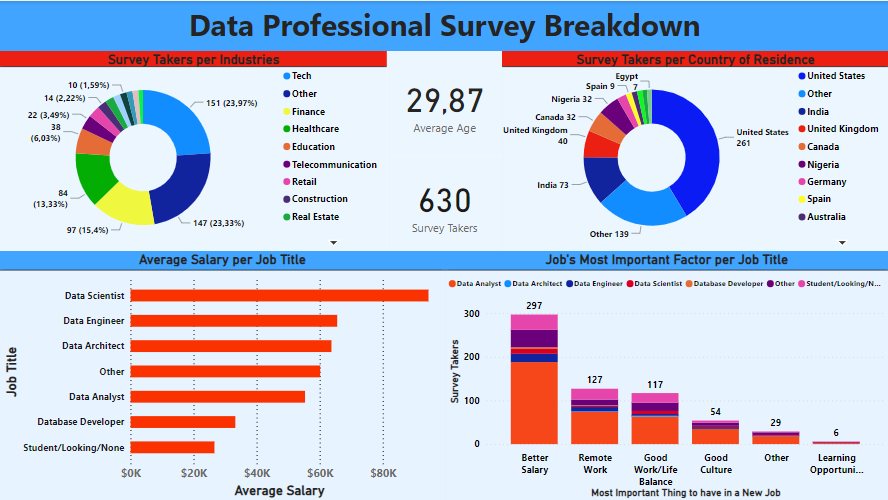

Layout of this report page (visuals, bound fields, positions):
{"tool":"powerbi","page":{"name":"Pagina 1","canvas":[1280,720],"ordinal":0},"visuals":[{"type":"textbox","box":[0,0,1280.2,72],"z":0},{"type":"card","fields":{"Values":["CountNonNull(Data Professional Survey.Unique ID)"]},"box":[557.3,223.2,165.6,136.8],"z":1000},{"type":"card","fields":{"Values":["Avg(Data Professional Survey.Q10 - Current Age)"]},"box":[557.3,72,165.6,151.2],"z":2000},{"type":"clusteredBarChart","fields":{"Category":["Data Professional Survey.Q1 - Which Title Best Fits your Current Role?.1"],"Y":["Avg(Data Professional Survey.Average Salary)"]},"box":[0,360,640.8,360],"z":3000},{"type":"columnChart","title":"Job''s Most Important Factor per Job Title","fields":{"Y":["CountNonNull(Data Professional Survey.Unique ID)"],"Series":["Data Professional Survey.Q1 - Which Title Best Fits your Current Role?.1"],"Category":["Data Professional Survey.Q8 - If you were to look for a new job today, what would be the most important t"]},"box":[640.8,360,639.4,360],"z":4000},{"type":"donutChart","title":"Survey Takers per Country of Residence","fields":{"Category":["Data Professional Survey.Q11 - Which Country do you live in?.1"],"Y":["CountNonNull(Data Professional Survey.Unique ID)"]},"box":[722.9,72,557.3,288],"z":5000},{"type":"donutChart","title":"Survey Takers per Industries","fields":{"Y":["CountNonNull(Data Professional Survey.Unique ID)"],"Category":["Data Professional Survey.Q4 - What Industry do you work in?.1"]},"box":[0,72,557.3,288],"z":6000}]}

Visuals, with their boxes in screenshot pixels (x1, y1, x2, y2), scaled from the page's 1280x720 canvas onto the 888x500 screenshot:
textbox: l=0, t=0, r=887, b=50
card - CountNonNull(Data Professional Survey.Unique ID): l=387, t=155, r=502, b=250
card - Avg(Data Professional Survey.Q10 - Current Age): l=387, t=50, r=502, b=155
clusteredBarChart - Data Professional Survey.Q1 - Which Title Best Fits your Current Role?.1 x Avg(Data Professional Survey.Average Salary): l=0, t=250, r=445, b=499
"Job''s Most Important Factor per Job Title" columnChart: l=445, t=250, r=887, b=499
"Survey Takers per Country of Residence" donutChart: l=502, t=50, r=887, b=250
"Survey Takers per Industries" donutChart: l=0, t=50, r=387, b=250
